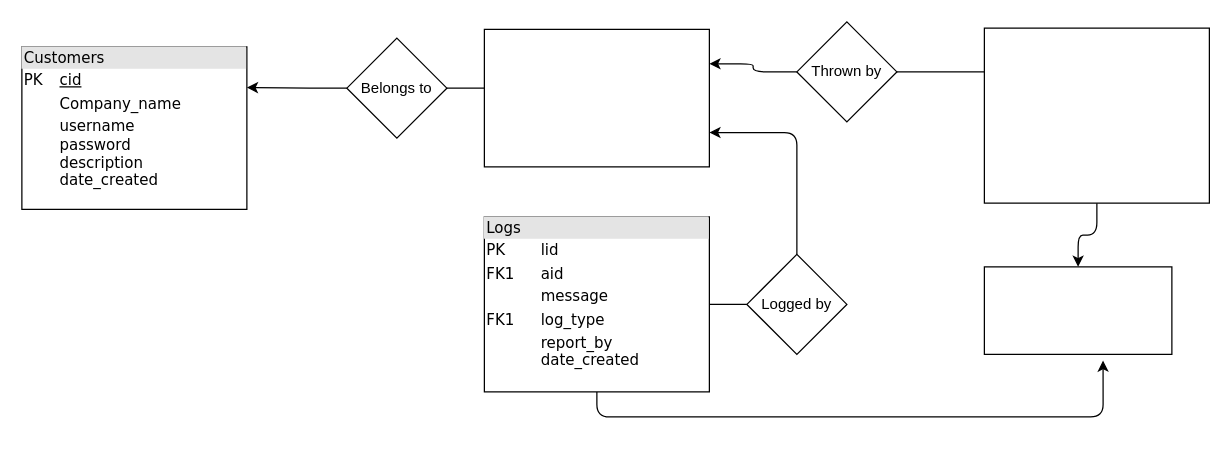
The diagram is 1231 pixels wide and 449 high, and some of its shapes have lost their labels. The shapes that lost their labels are listed below. From the top down, each one's centre as x and y in pixels, then its label:
the point at 596,97: Apps PK aid FK1 cid app_name app_tytpe description
the point at 1096,115: Errors PK eid FK1 aid message FK1 error_type report_by date_created
the point at 1077,310: log_type PK type description
